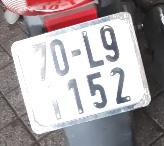0: (47, 34, 74, 81)
1: (64, 75, 89, 119), (41, 81, 65, 124)
2: (108, 62, 138, 107)
5: (82, 68, 113, 113)
7: (28, 38, 52, 85)
9: (96, 18, 124, 66)
L: (76, 25, 106, 72)
